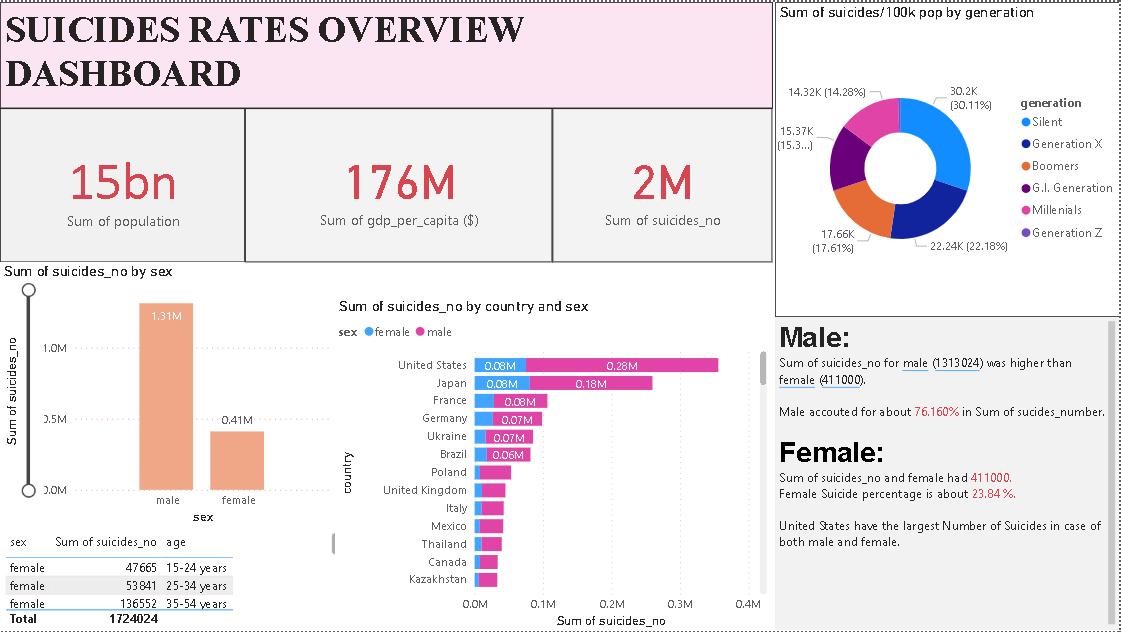

What the dashboard file says about the page in this screenshot:
{"tool":"powerbi","page":{"name":"Page 1","canvas":[1280,720],"ordinal":0},"visuals":[{"type":"card","fields":{"Values":["Sum(master.population)"]},"box":[0,121.4,280,175.7],"z":0},{"type":"columnChart","fields":{"Category":["master.sex"],"Y":["Sum(master.suicides_no)"]},"box":[0,297,382.6,304.4],"z":1000},{"type":"tableEx","fields":{"Values":["master.sex","Sum(master.suicides_no)","master.age"]},"box":[0,601.4,392.4,118.6],"z":2000},{"type":"barChart","fields":{"Category":["master.country"],"Y":["Sum(master.suicides_no)"],"Series":["master.sex"]},"box":[382.6,337.4,498.7,382.6],"z":3000},{"type":"textbox","box":[886.2,360.6,393.6,359.4],"z":4000},{"type":"card","fields":{"Values":["Sum(master.gdp_per_capita ($))"]},"box":[280,121.4,351.4,175.7],"z":5000},{"type":"donutChart","fields":{"Category":["master.generation"],"Y":["Sum(master.suicides/100k pop)"]},"box":[885.7,0,394.3,360],"z":6000},{"type":"card","fields":{"Values":["Sum(master.suicides_no)"]},"box":[631,121,251,176],"z":7000},{"type":"textbox","box":[0,0,882.9,121.4],"z":8000}]}

Visuals, with their boxes in screenshot pixels (x1, y1, x2, y2), scaled from the page's 1280x720 canvas onto the 1122x632 screenshot:
card - Sum(master.population): bbox=[0, 107, 245, 261]
columnChart - master.sex x Sum(master.suicides_no): bbox=[0, 261, 335, 528]
tableEx - master.sex x Sum(master.suicides_no): bbox=[0, 528, 344, 631]
barChart - master.country x Sum(master.suicides_no): bbox=[335, 296, 773, 631]
textbox: bbox=[777, 317, 1121, 631]
card - Sum(master.gdp_per_capita ($)): bbox=[245, 107, 553, 261]
donutChart - master.generation x Sum(master.suicides/100k pop): bbox=[776, 0, 1121, 316]
card - Sum(master.suicides_no): bbox=[553, 106, 773, 261]
textbox: bbox=[0, 0, 774, 107]
